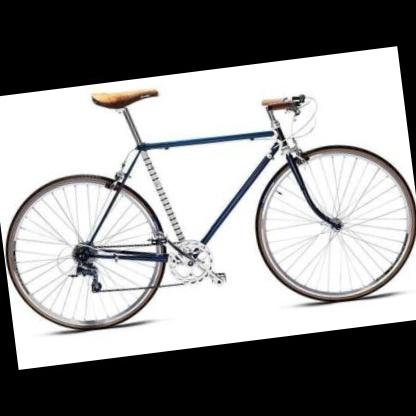Bicycle: (0, 77, 414, 327)
